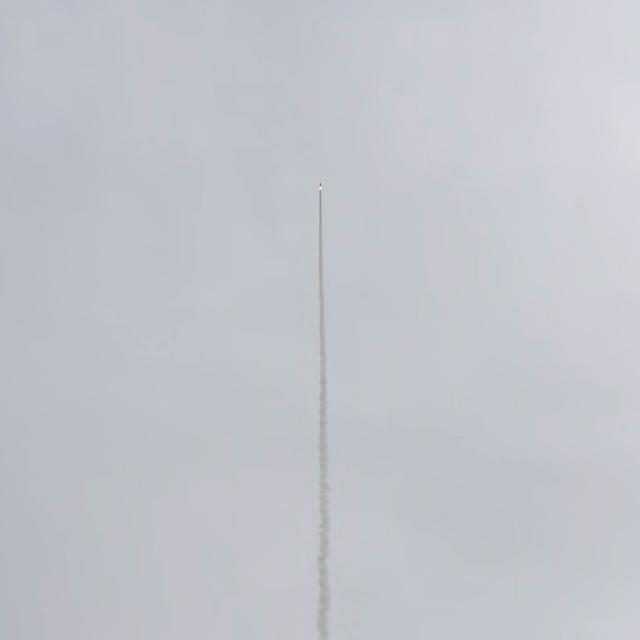smoke_trail_with_rocket: (317, 185, 329, 640)
